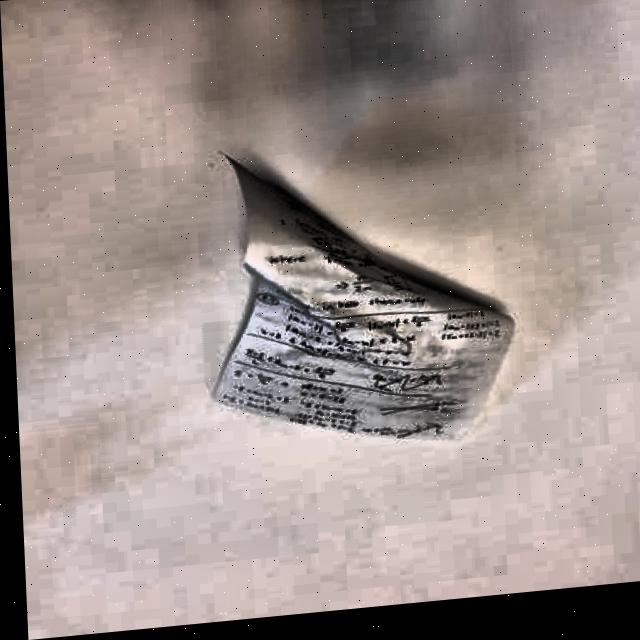paper: (202, 124, 522, 472)
